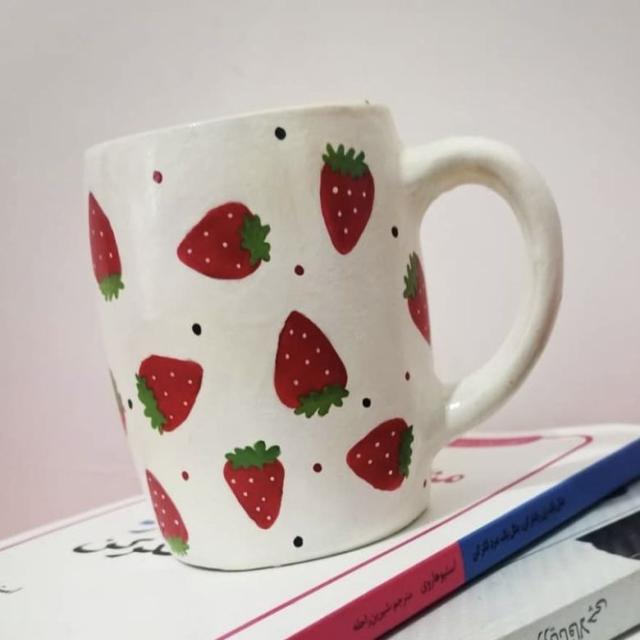glass cup: (84, 102, 564, 571)
